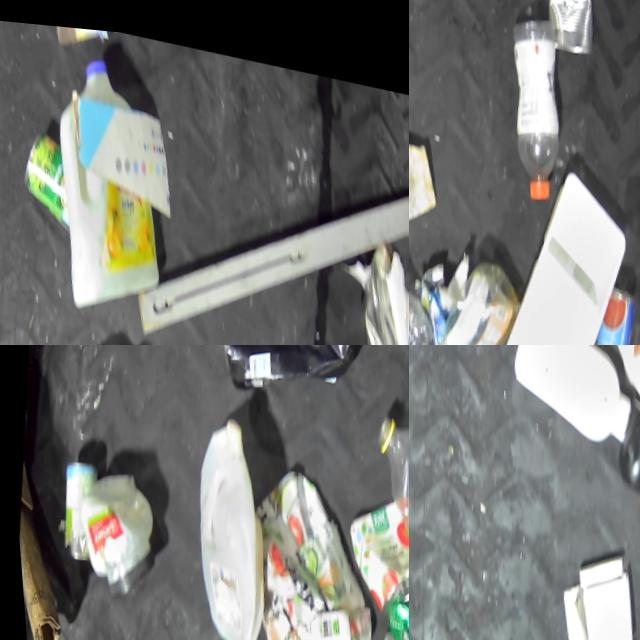can: (337, 488, 409, 613), (575, 263, 640, 345), (540, 0, 598, 48), (371, 593, 409, 640), (282, 325, 348, 345)
milk_jug: (31, 38, 182, 327), (176, 415, 279, 640)
non_white_jug: (204, 345, 376, 414)
plastic_bottle: (488, 0, 583, 200), (409, 230, 528, 345), (351, 390, 409, 604), (409, 202, 440, 345)
